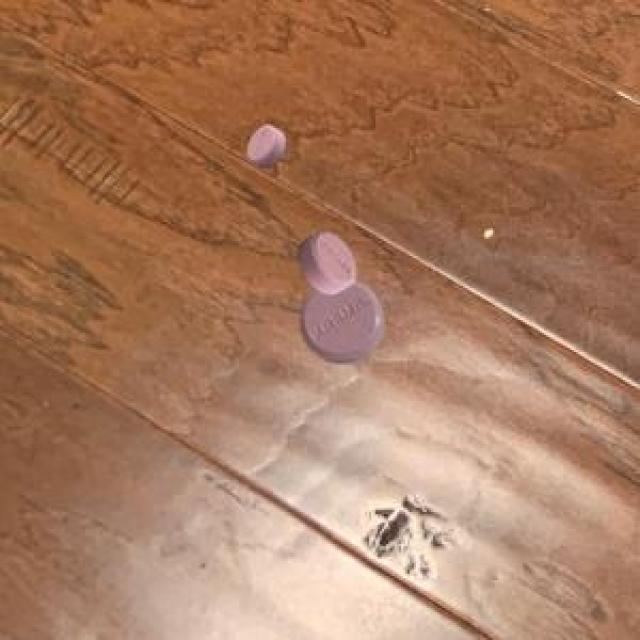Kremil_S: (288, 226, 399, 372), (236, 116, 292, 172)
